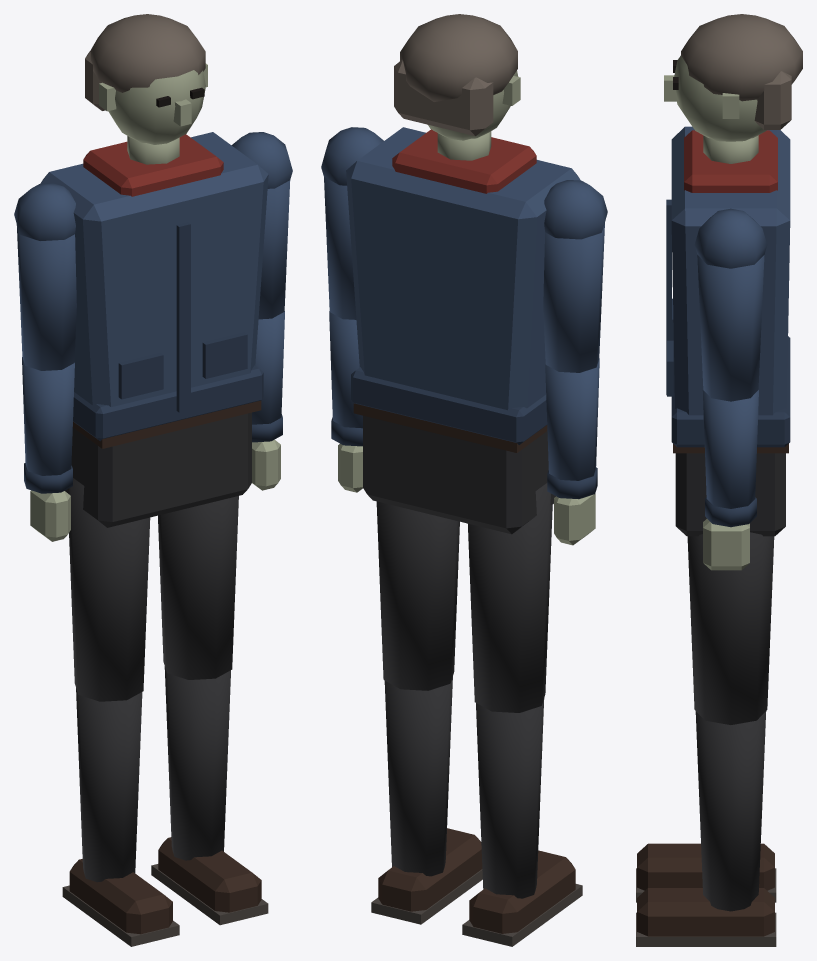
The model's file is zombie_b.glb.
3 views of the same model, side by side, from view 1: azimuth 30°, elevation 25°; view 2: azimuth 150°, elevation 25°; view 3: azimuth 270°, elevation 25° (orthographic). The views are drawn at different scales.
Parts seen in each view (by area): view 1: Torso, ShinR, ShinL, Hips, LegR, Head, LegL, ArmR, ForearmR, ArmL, ForearmL; view 2: Torso, ShinR, Hips, ShinL, LegR, Head, LegL, ArmR, ForearmR, ArmL, ForearmL; view 3: Torso, ShinL, Head, LegL, ArmL, ForearmL, Hips, ShinR.
Part boxes in pixels (x1,y1,x2,y2): Torso: (40, 132, 268, 441); ShinR: (62, 688, 179, 946); ShinL: (151, 666, 268, 925); Hips: (65, 400, 261, 527); LegR: (69, 478, 150, 701); Head: (85, 14, 207, 164); LegL: (158, 496, 238, 679); ArmR: (14, 183, 76, 370); ForearmR: (22, 357, 74, 541); ArmL: (231, 132, 292, 319); ForearmL: (252, 311, 284, 490); Torso: (346, 127, 580, 444); ShinR: (462, 698, 582, 946); Hips: (353, 403, 555, 534); ShinL: (371, 676, 482, 924); LegR: (468, 483, 552, 712); Head: (394, 14, 520, 160); LegL: (376, 501, 459, 690); ArmR: (543, 180, 607, 372); ForearmR: (545, 358, 599, 545); ArmL: (321, 127, 383, 319); ForearmL: (329, 311, 362, 492); Torso: (666, 126, 790, 447); ShinL: (636, 711, 776, 946); Head: (664, 14, 802, 163); LegL: (687, 532, 774, 724); ArmL: (694, 208, 767, 401); ForearmL: (702, 390, 758, 570); Hips: (673, 443, 788, 536); ShinR: (636, 843, 776, 902).
Bounding box in the file's own units: 0.582 × 1.78 × 0.3026.
